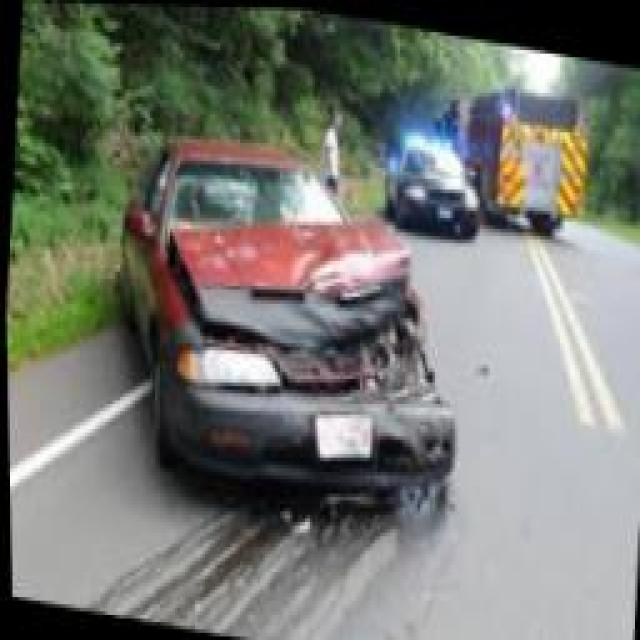Bonnet: (165, 193, 403, 360)
Bumper: (170, 354, 448, 515)
Light: (352, 322, 439, 392)
